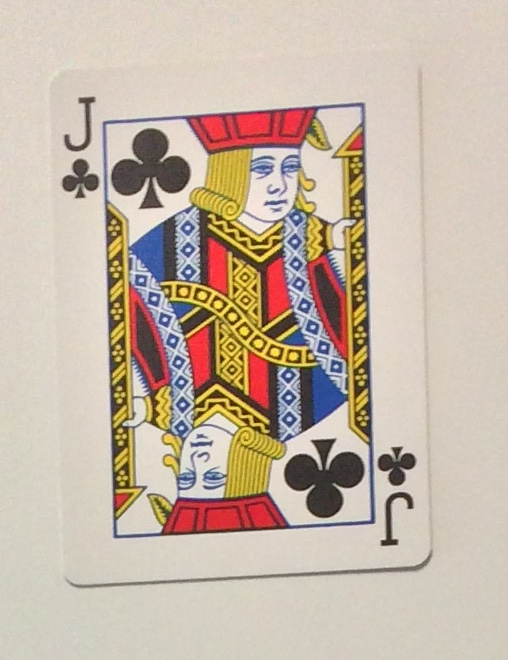C: (57, 159, 103, 204)
J: (53, 80, 98, 157)
